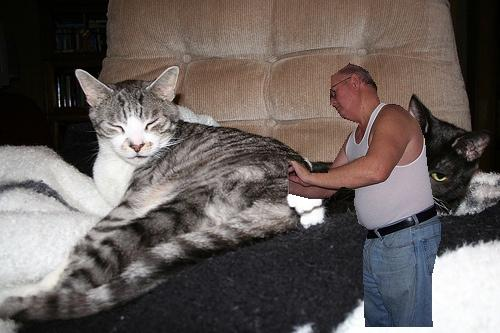tampered: (289, 64, 441, 327)
